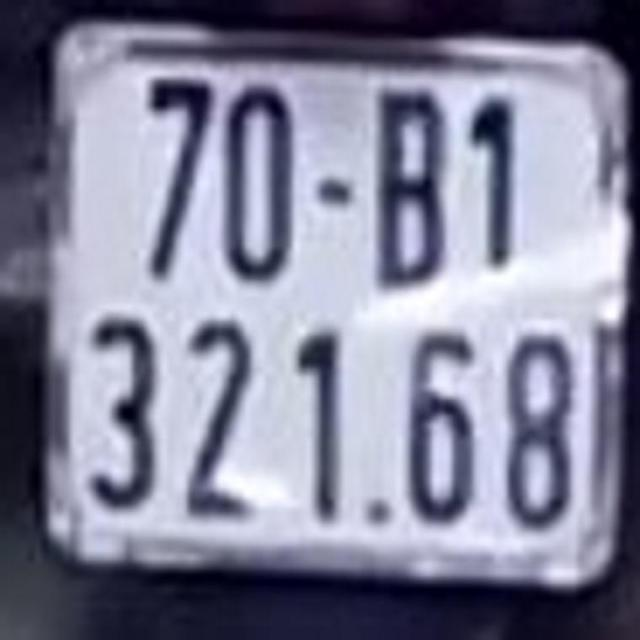0: (220, 81, 296, 282)
1: (293, 324, 347, 520), (468, 84, 520, 282)
2: (180, 307, 255, 520)
3: (82, 306, 158, 509)
6: (406, 316, 477, 524)
7: (142, 74, 213, 279)
8: (504, 324, 572, 527)
B: (370, 80, 450, 292)
